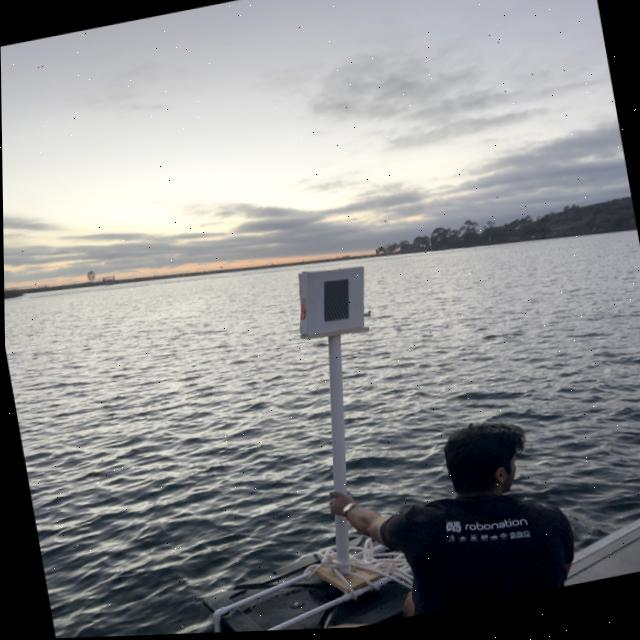led: (304, 264, 363, 345)
